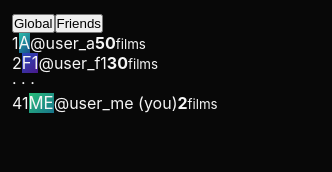
Test: Leaderboard › says so when you have no friends, and offers a retry when loading fails
Later steps or results of the test are not shown.
expect the text "@user_a" is shown: met, box [30,33,95,53]
Click the button "Friends" at (79, 24), box [54,14,103,33]
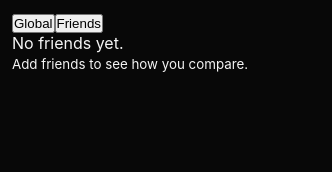
expect the text "No friends yet." is shown: met, box [12,33,124,53]
